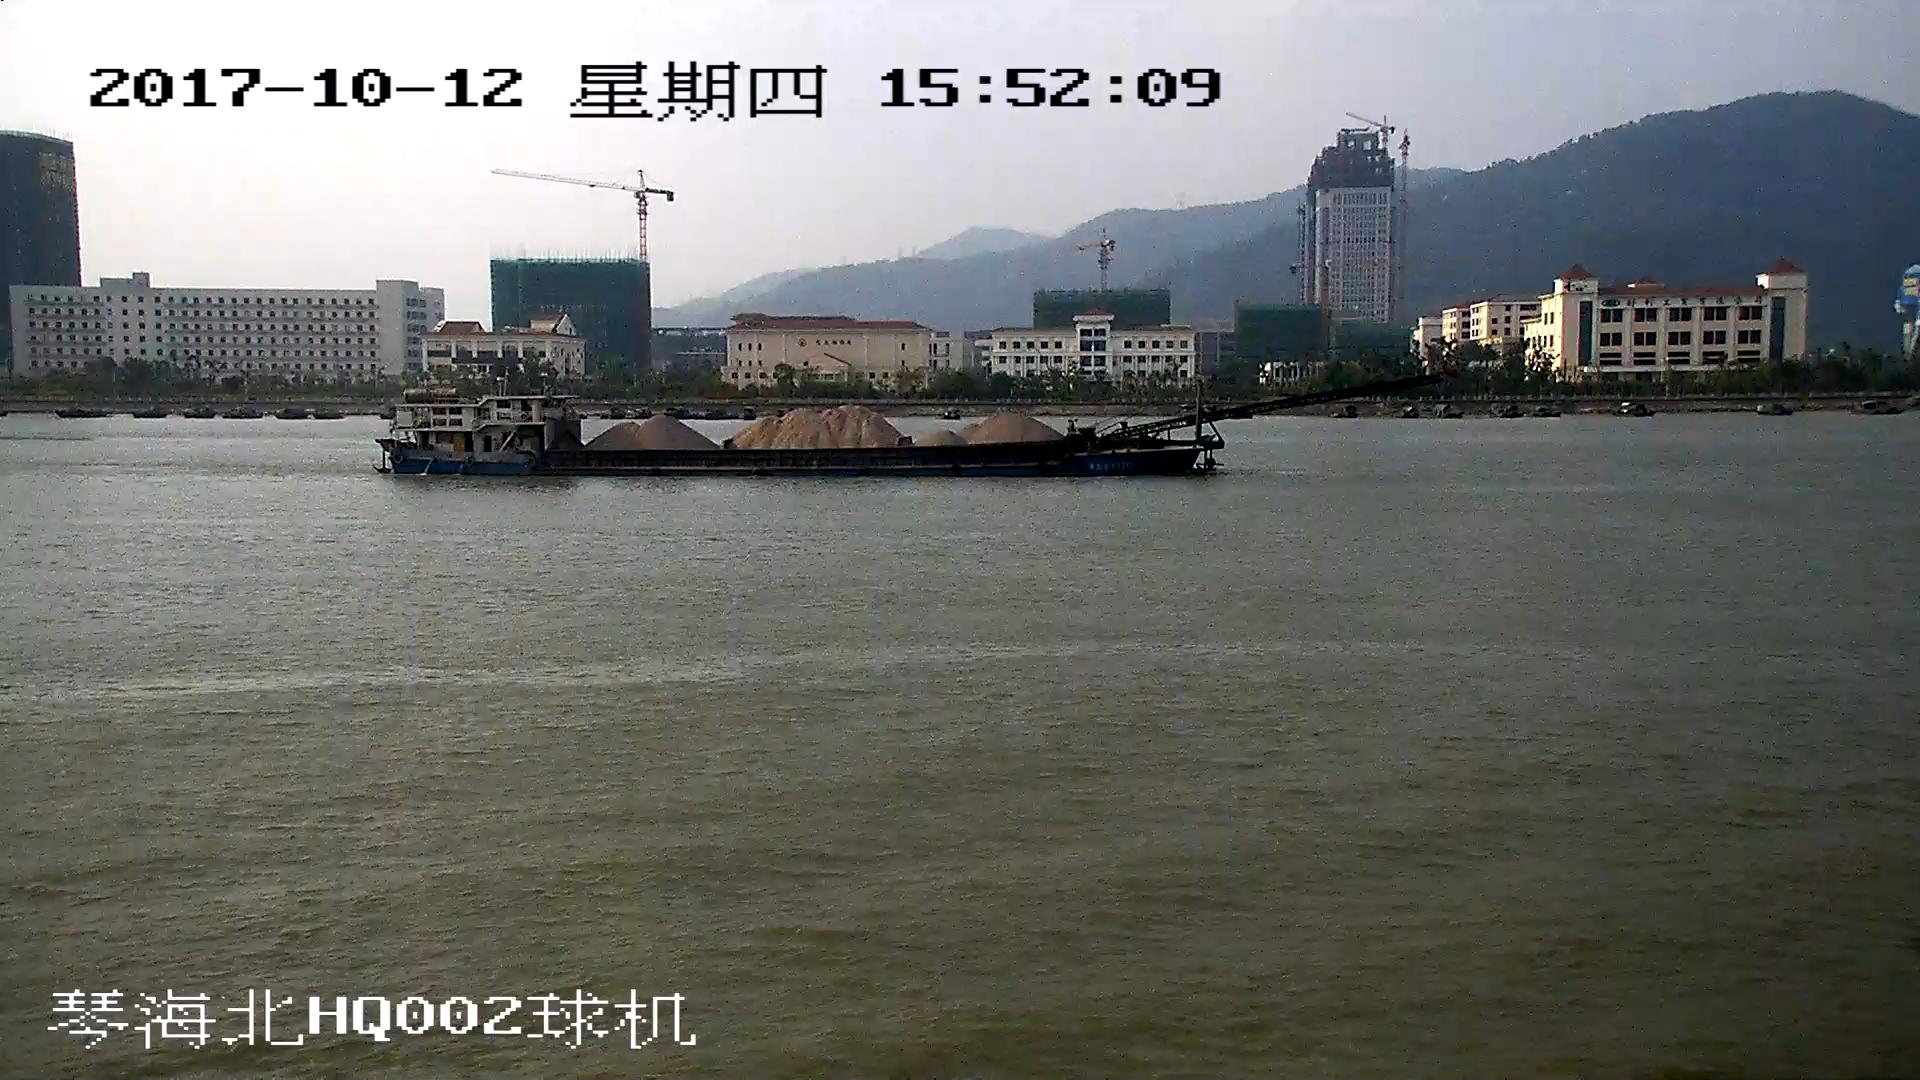ore carrier: (379, 375, 1431, 475)
